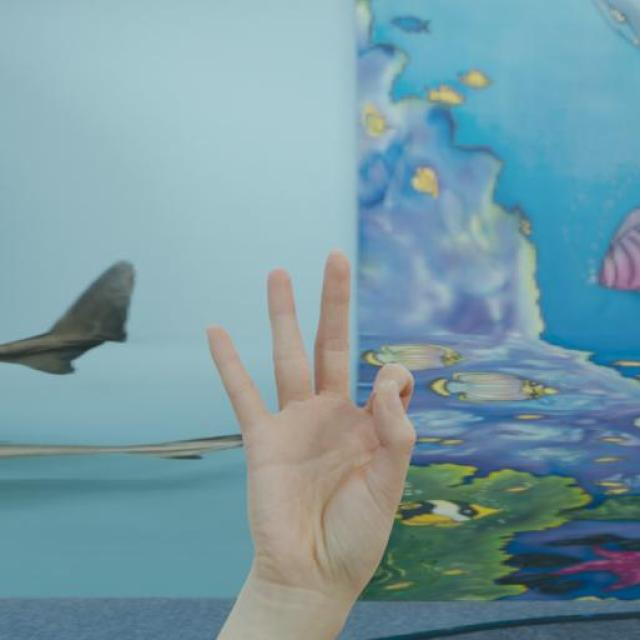F: (202, 247, 421, 593)
